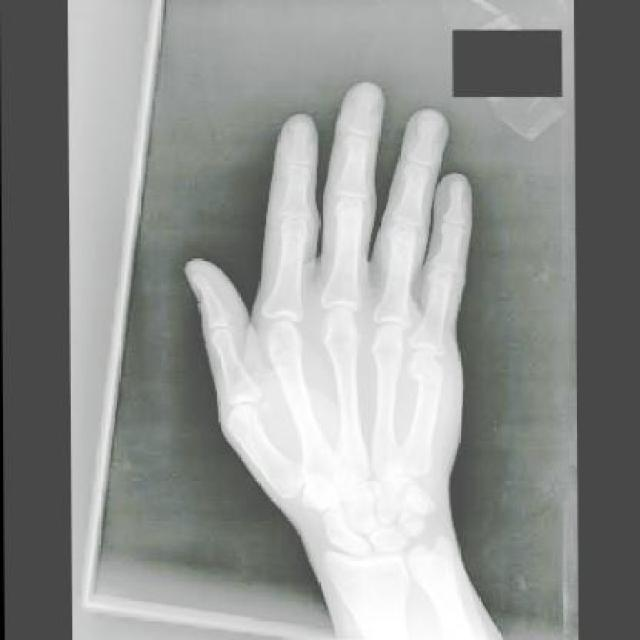Fracture: (408, 356, 446, 393)
